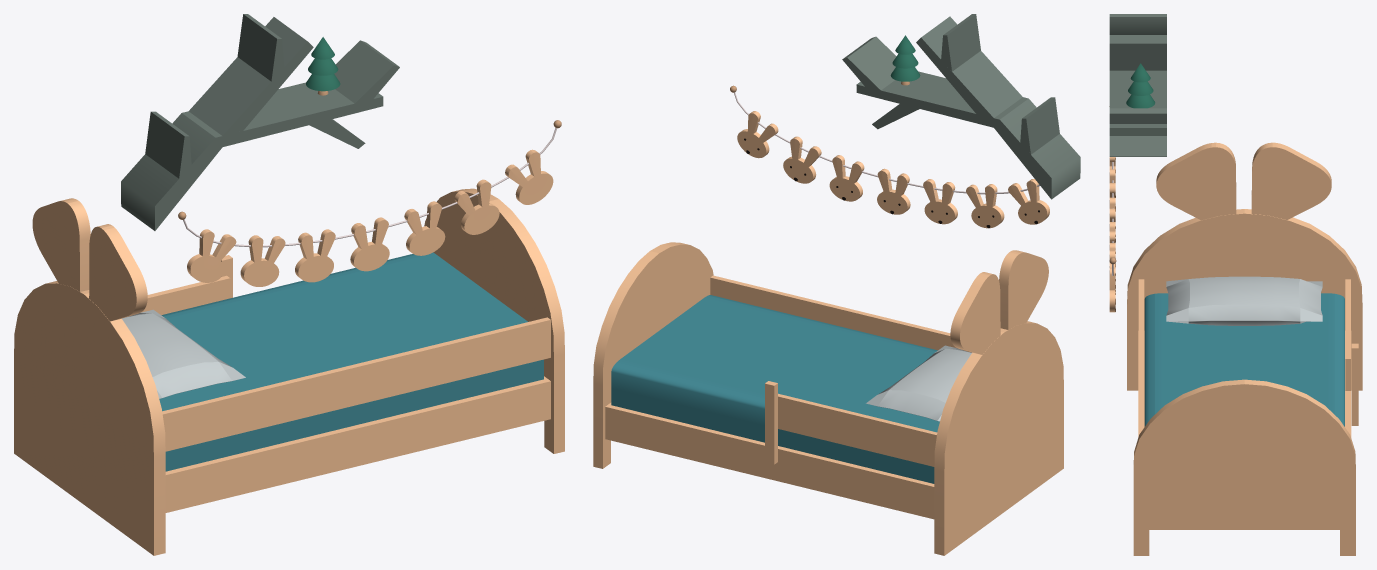
The model's file is Furn3_bed_color2_joined.fbx.
3 renders of one model, left to right at view 1: azimuth 30°, elevation 25°; view 2: azimuth 150°, elevation 25°; view 3: azimuth 270°, elevation 25°, orthographic. The views are drawn at different scales.
Parts seen in each view (by area): view 1: Куб.002; view 2: Куб.002; view 3: Куб.002.
Boxes of the visible parts, x1,y1,x2,y2 form: Куб.002: (14, 14, 564, 555); Куб.002: (593, 14, 1080, 555); Куб.002: (1109, 14, 1362, 555).
Size of the model in its own units: 399 by 447 by 245.
